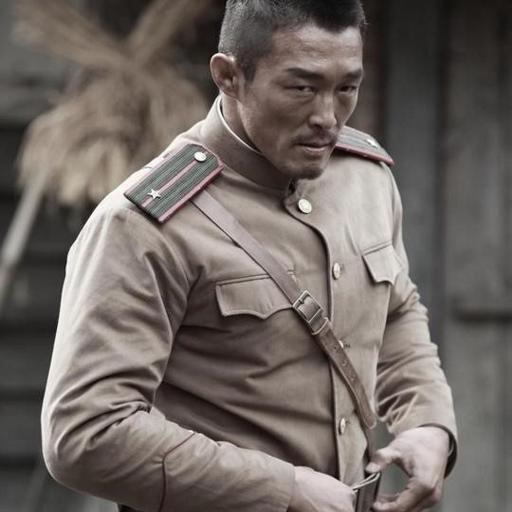north army: (66, 3, 484, 512)
